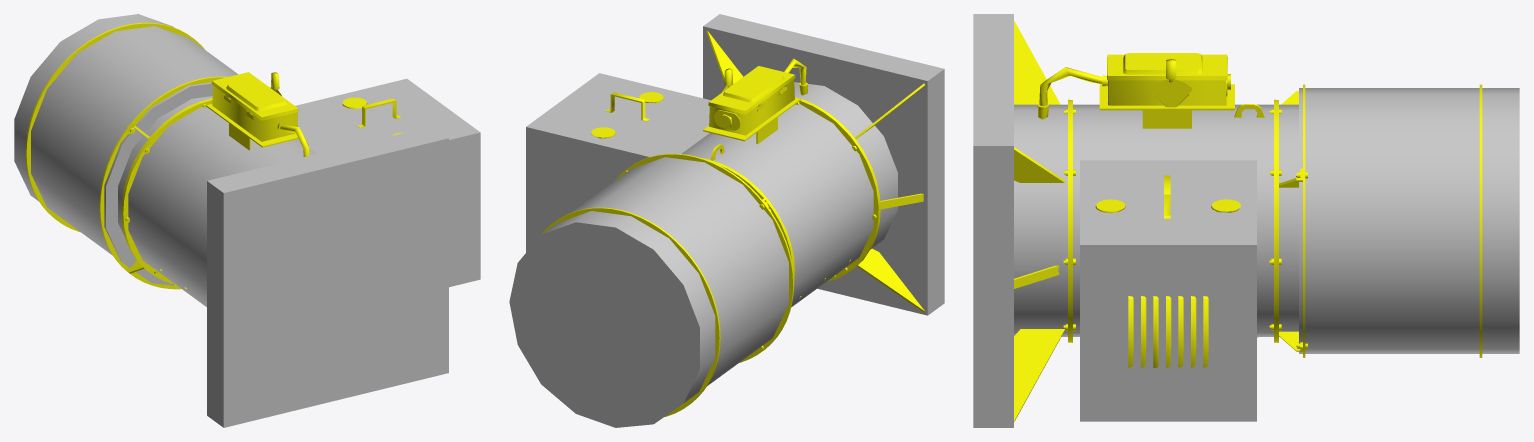
The model's file is sm_hana_bas_floor_air_diffuser.glb.
3 views of the same model, side by side, from view 1: azimuth 30°, elevation 25°; view 2: azimuth 150°, elevation 25°; view 3: azimuth 270°, elevation 25° (orthographic). The views are drawn at different scales.
Visible parts, largest first — view 1: sm_color_common, sm_hana_bas_floor_air_diffuser; view 2: sm_color_common, sm_hana_bas_floor_air_diffuser; view 3: sm_color_common, sm_hana_bas_floor_air_diffuser.
Boxes of the visible parts, x1,y1,x2,y2 form: sm_color_common: (14,14,480,427); sm_hana_bas_floor_air_diffuser: (25,22,402,289); sm_color_common: (509,14,944,427); sm_hana_bas_floor_air_diffuser: (538,30,924,416); sm_color_common: (973,14,1519,427); sm_hana_bas_floor_air_diffuser: (1014,20,1482,421).
Bounding box in the file's own units: 1.67 × 1.37 × 2.16.
2 materials, 1 textured.
